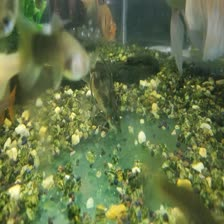Guppy: (13, 21, 90, 100)
Kiros: (87, 65, 125, 142)
Transparente: (96, 7, 117, 45)
